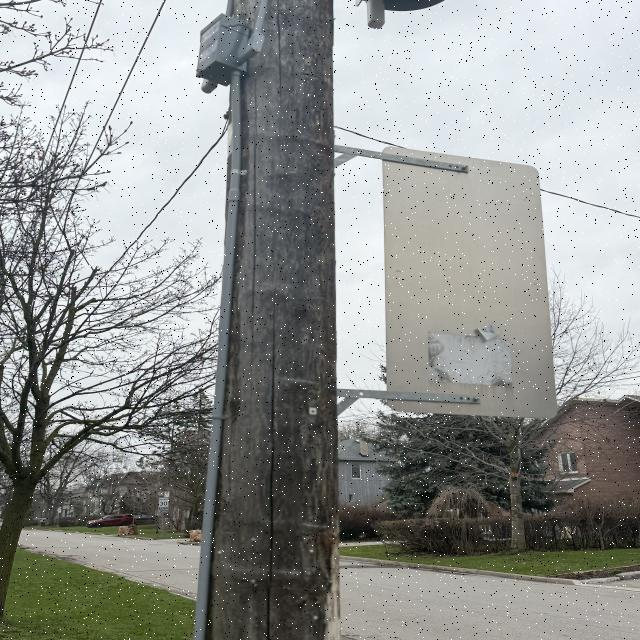Electrical Pole: (183, 0, 460, 638)
